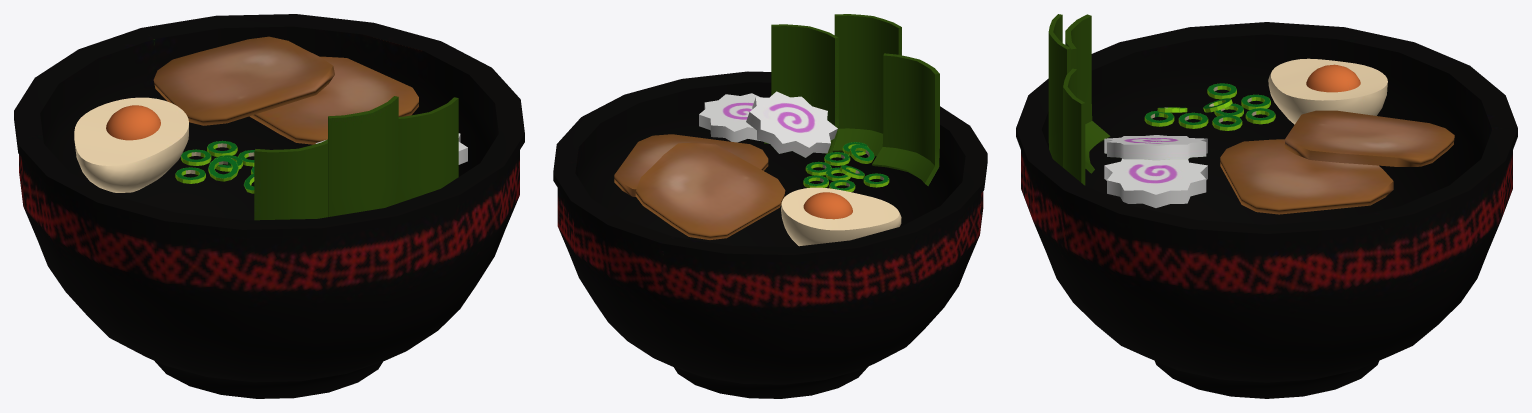
Rendered from bowl.obj.
The picture shows the model from 3 angles, left to right: view 1: azimuth 30°, elevation 25°; view 2: azimuth 150°, elevation 25°; view 3: azimuth 270°, elevation 25°; orthographic projection. The views are drawn at different scales.
Visible parts, largest first — view 1: defaultMaterial.016; view 2: defaultMaterial.016; view 3: defaultMaterial.016.
Boxes of the visible parts, x1,y1,x2,y2 form: defaultMaterial.016: [14, 14, 524, 398]; defaultMaterial.016: [553, 14, 987, 398]; defaultMaterial.016: [1016, 14, 1517, 398].
Bounding box in the file's own units: 55.09 × 37.91 × 55.09.
